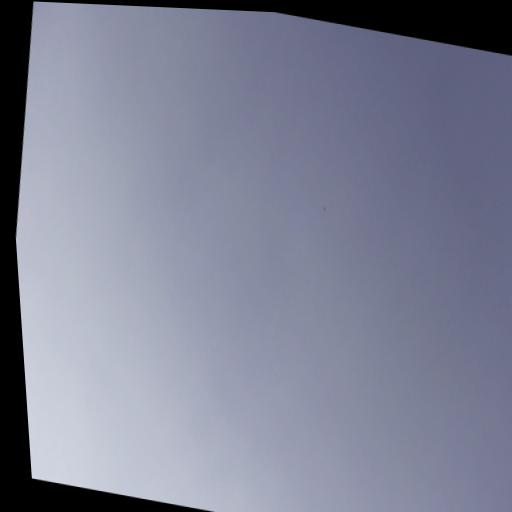drones: (321, 203, 328, 213)
